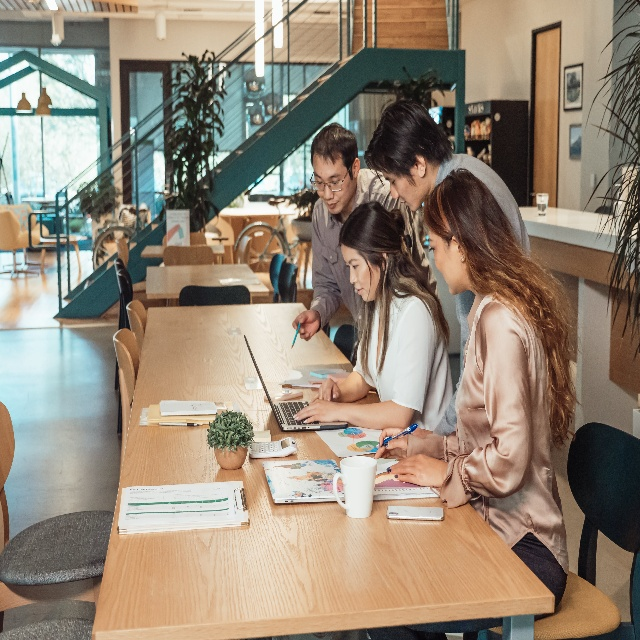Gafas: (310, 166, 352, 192)
Sin_guantes: (386, 453, 446, 488), (293, 398, 338, 424), (373, 426, 408, 459), (292, 309, 320, 341), (308, 378, 341, 403)
